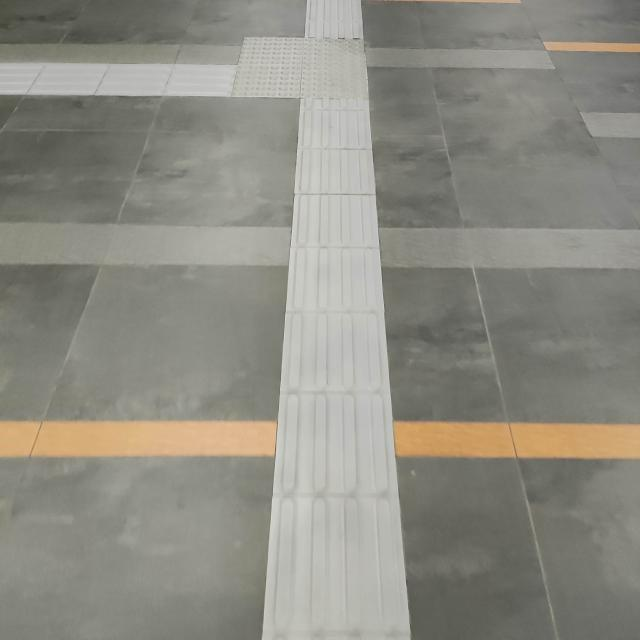lurus: (271, 113, 406, 635)
